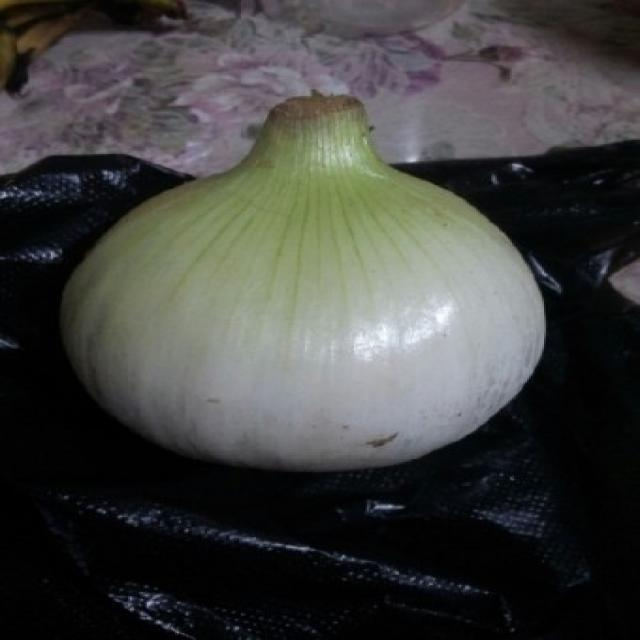onion: (54, 86, 574, 482)
